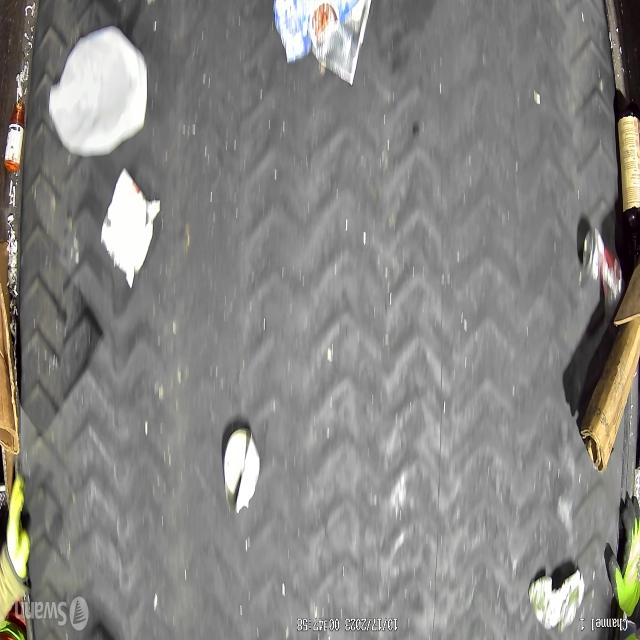can: (314, 0, 369, 88), (578, 224, 622, 313), (222, 424, 260, 515)
milk_jug: (48, 23, 148, 161)
